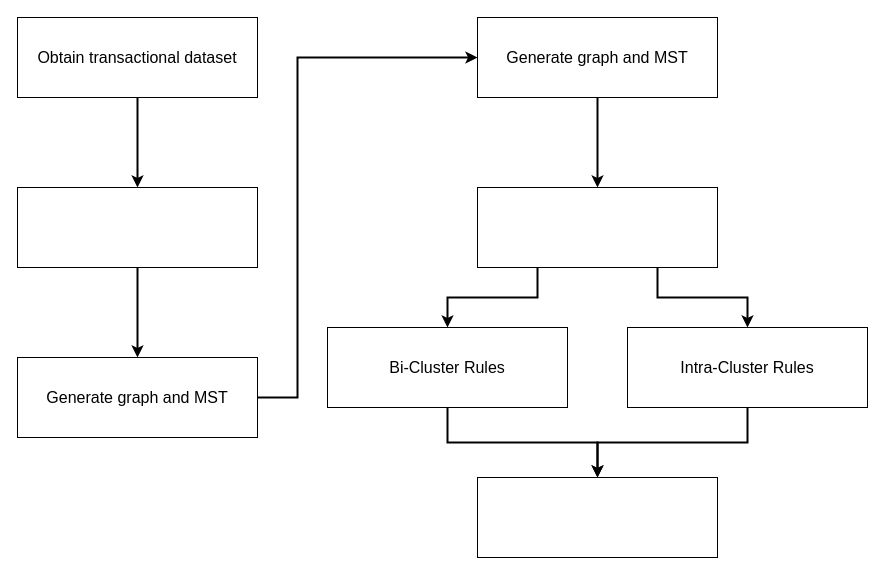
Some shapes in this 885 by 575 pixel diagram are drawn without their labels. Each missing label, with the box of its shape:
Cluster MST: (476, 186, 718, 268)
Convert to binary purchase vectors: (16, 186, 258, 268)
Prune Rules: (476, 476, 718, 558)
